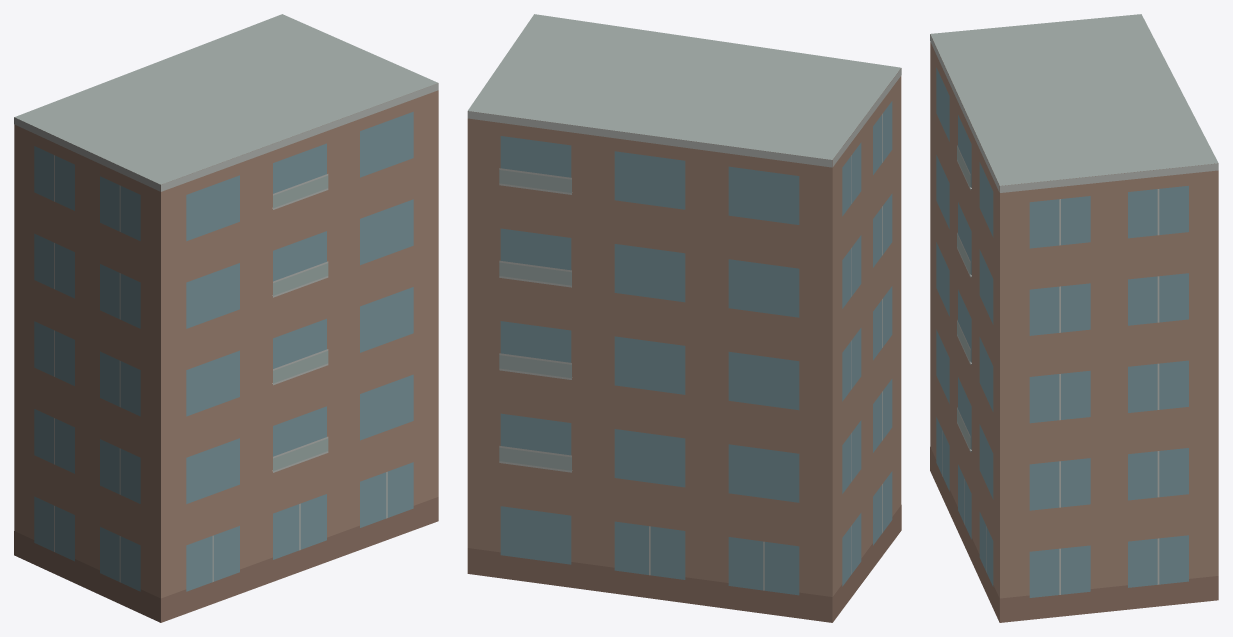
Rendered from survey-upis-32947516.glb.
3 views of the same model, side by side, from view 1: azimuth 30°, elevation 25°; view 2: azimuth 150°, elevation 25°; view 3: azimuth 270°, elevation 25° (orthographic). The views are drawn at different scales.
Parts seen in each view (by area): view 1: survey-upis-32947516.tmp; view 2: survey-upis-32947516.tmp; view 3: survey-upis-32947516.tmp.
Part boxes in pixels (x1=…): survey-upis-32947516.tmp: x1=14, y1=14, x2=438, y2=622; survey-upis-32947516.tmp: x1=467, y1=14, x2=901, y2=622; survey-upis-32947516.tmp: x1=930, y1=14, x2=1218, y2=622.
Size of the model in its own units: 12.63 by 14.95 by 8.96.
